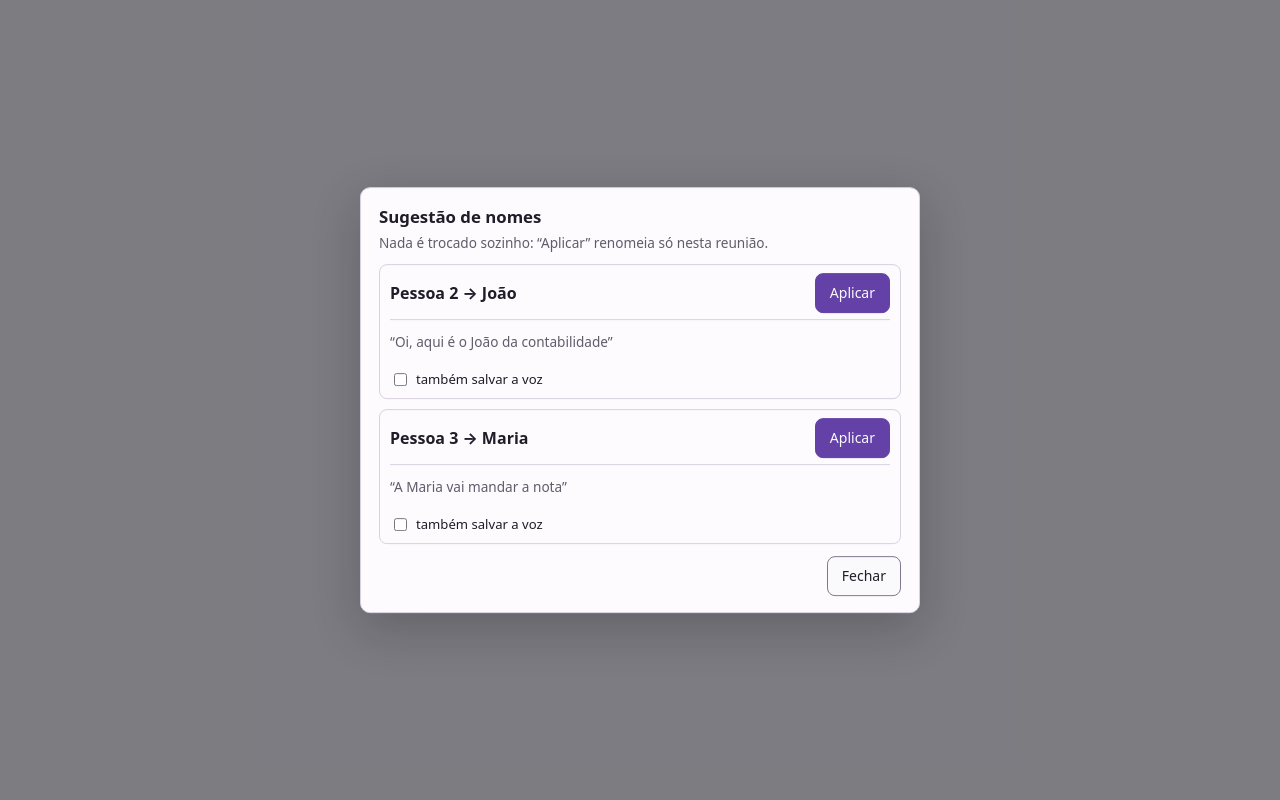
NameSuggestionsDialog › keeps the rename when saving the voice fails
Click the checkbox labelled "também salvar a voz" below "Pessoa 2 → João" at x=400, y=380, box [394,373,407,386]
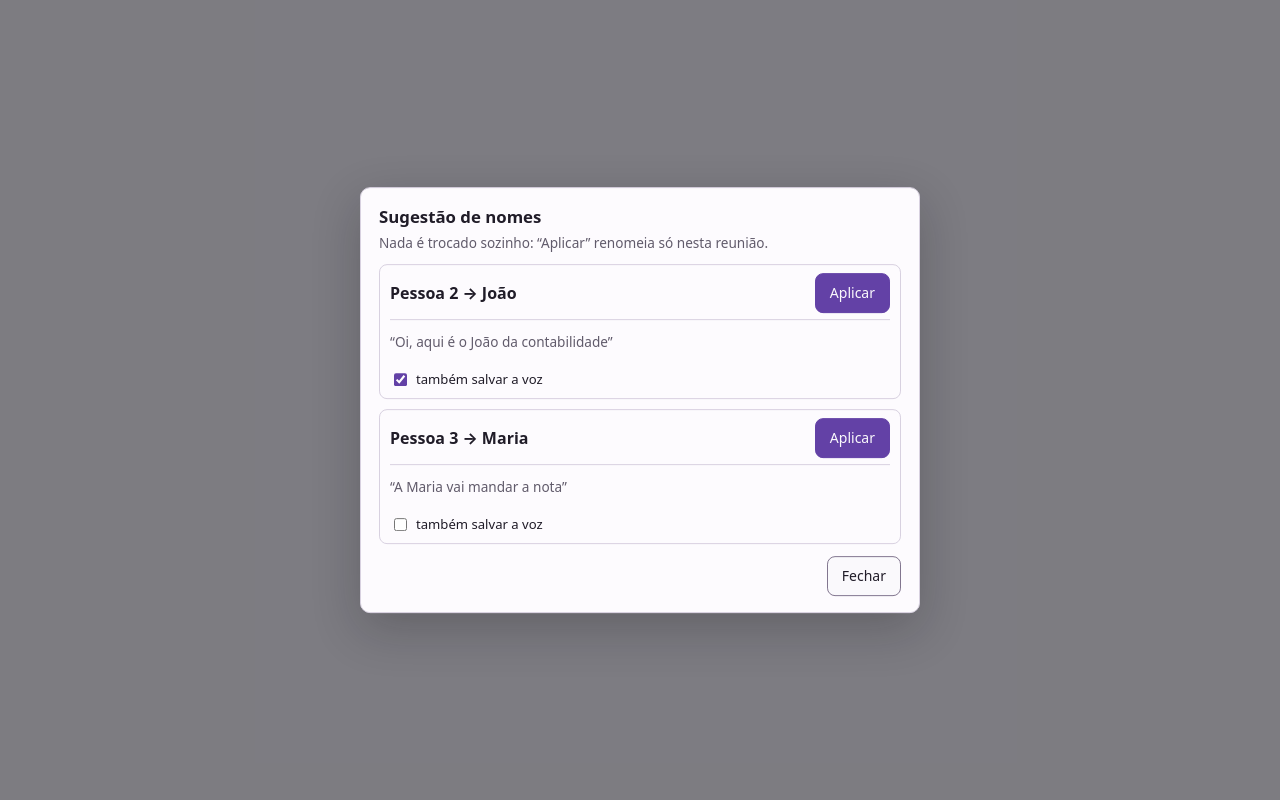
Click the button "Aplicar" in the row of "Pessoa 2 → João" at x=852, y=293, box [815,273,890,313]
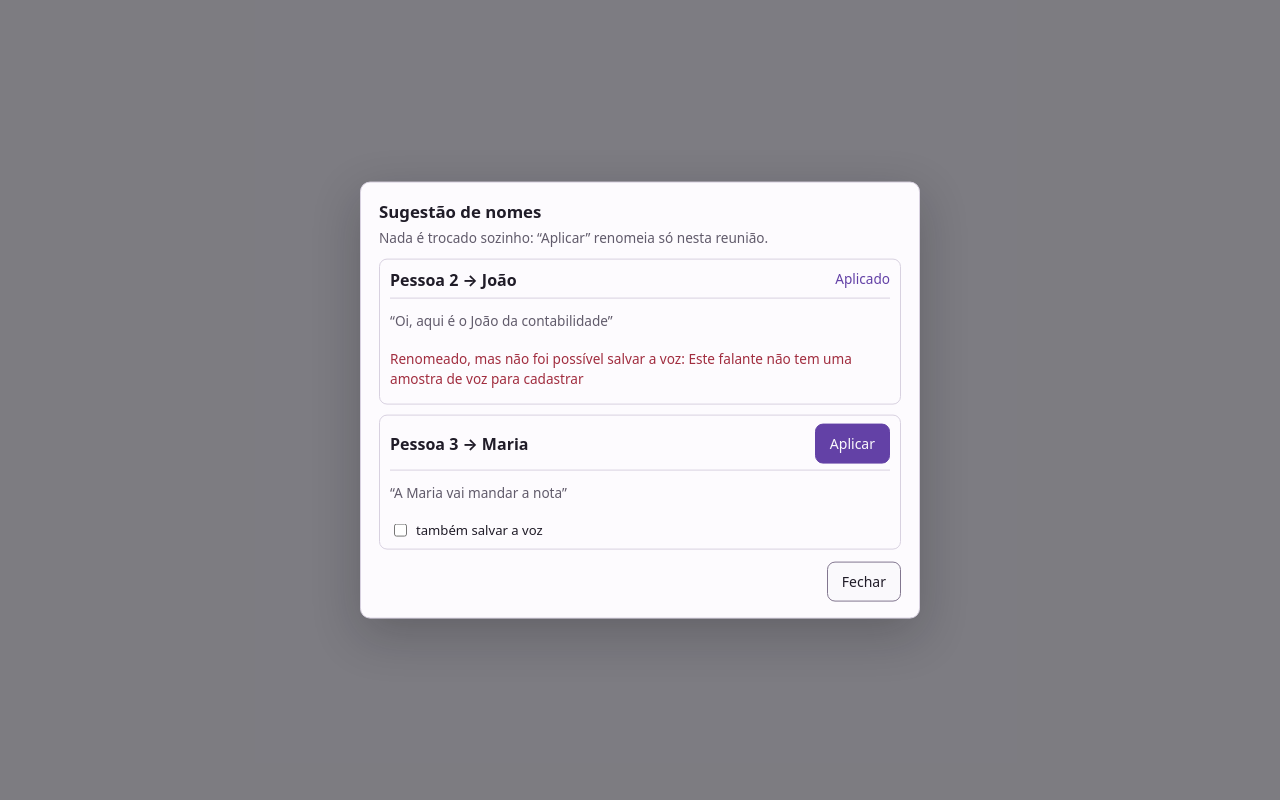
Now the text "não tem uma amostra de voz" is shown, box [390,349,852,388]
Now the text "Aplicado" is shown, box [835,269,890,289]
